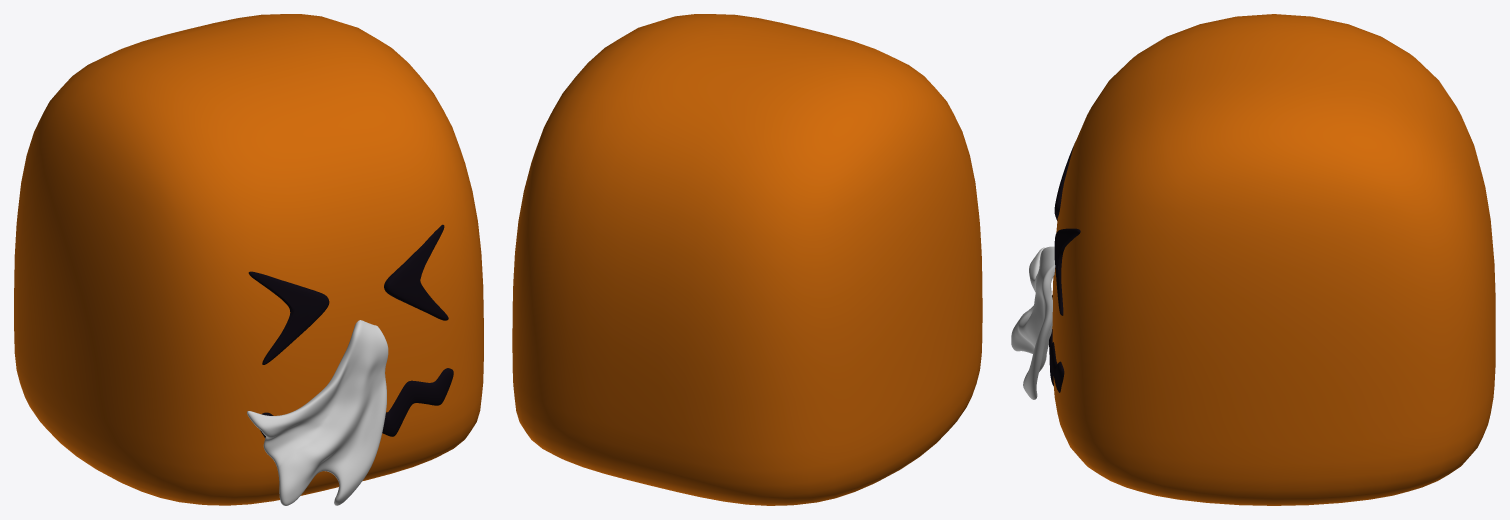
Rendered from Emoji 061 sneezing face.fbx.
3 views of the same model, side by side, from view 1: azimuth 30°, elevation 25°; view 2: azimuth 150°, elevation 25°; view 3: azimuth 270°, elevation 25° (orthographic).
Visible parts, largest first — view 1: Emoji 061 sneezing face, Plane.027, Eyes.085, Plane.026; view 2: Emoji 061 sneezing face; view 3: Emoji 061 sneezing face, Plane.027, Eyes.085.
Part boxes in pixels (x1=…): Emoji 061 sneezing face: x1=14, y1=14, x2=483, y2=505; Plane.027: x1=247, y1=320, x2=388, y2=505; Eyes.085: x1=248, y1=224, x2=448, y2=364; Plane.026: x1=260, y1=368, x2=453, y2=437; Emoji 061 sneezing face: x1=512, y1=14, x2=982, y2=505; Emoji 061 sneezing face: x1=1052, y1=14, x2=1495, y2=505; Plane.027: x1=1011, y1=246, x2=1055, y2=399; Eyes.085: x1=1054, y1=141, x2=1080, y2=315.
Bounding box in the file's own units: 95.83 × 109 × 95.83.
